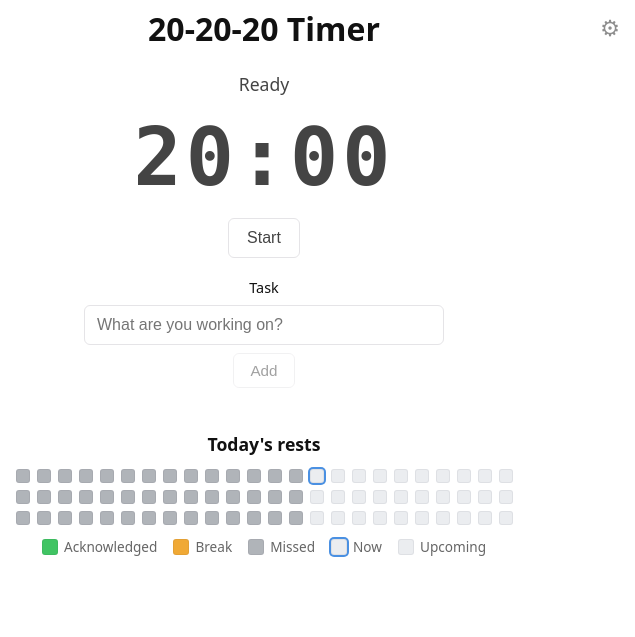
Scenario: 20-20-20 Timer › deletes a task
Step 1. Type "Trash me" into the field with placeholder "What are you working on?" → coordinates (264, 325), box [84, 305, 444, 345]
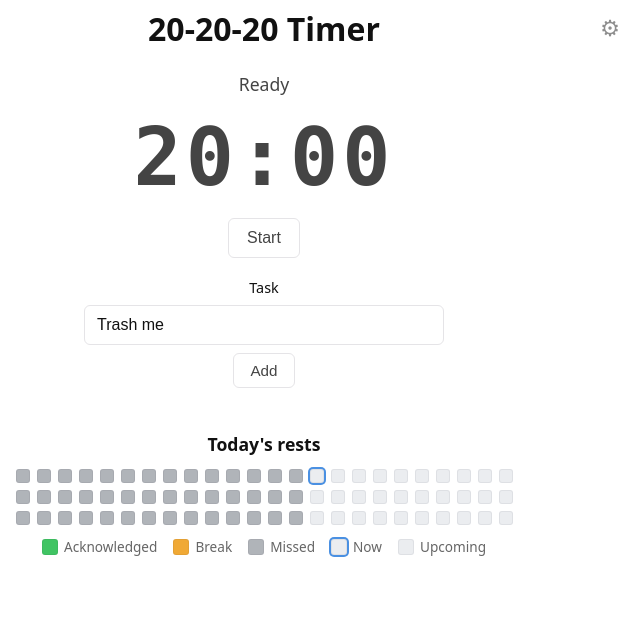
Step 2. Click the button "Add" → coordinates (264, 370), box [234, 353, 294, 388]
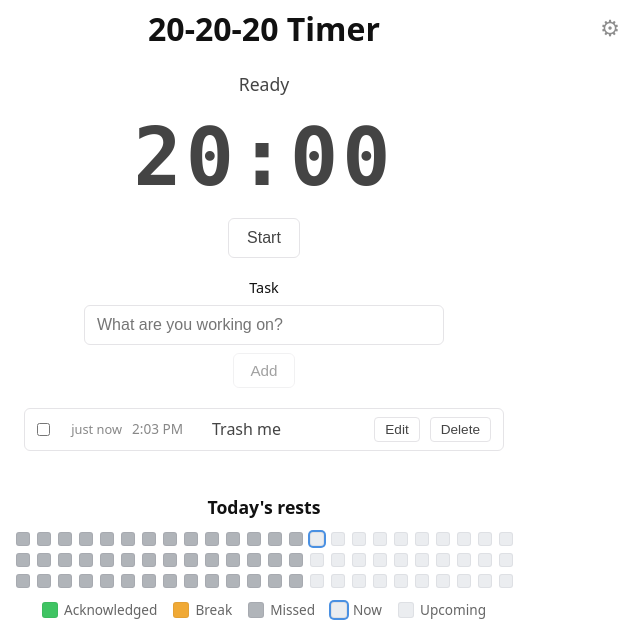
Expected: the list named "tasks" shows "Trash me", [212, 418, 281, 440]
Step 3. Click the button "Delete" → coordinates (460, 429), box [430, 417, 491, 442]
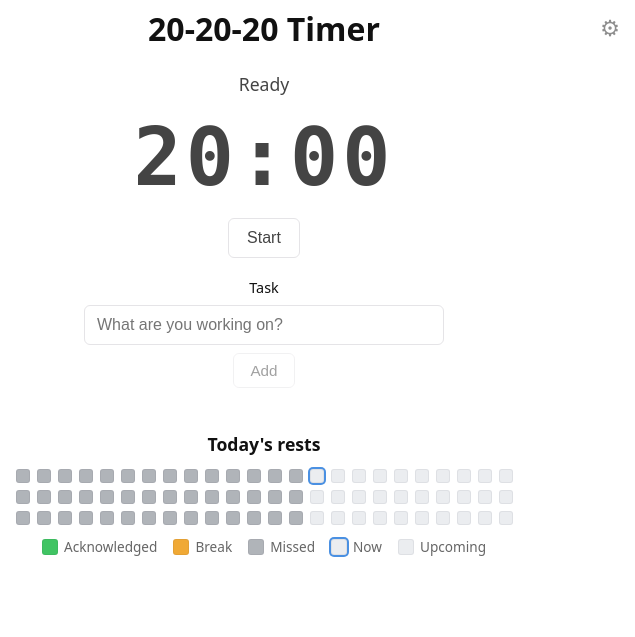
Expected: the list labelled "tasks" is gone
